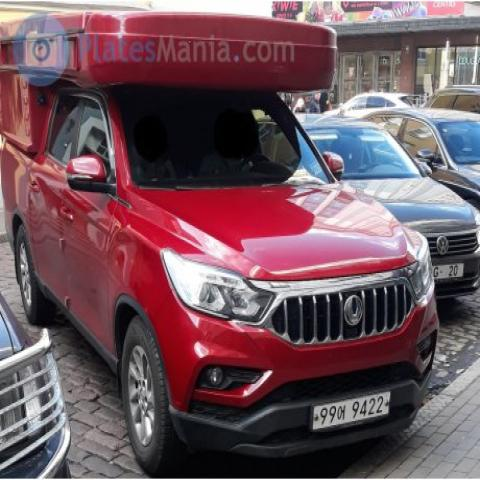LP: (307, 386, 396, 434)
